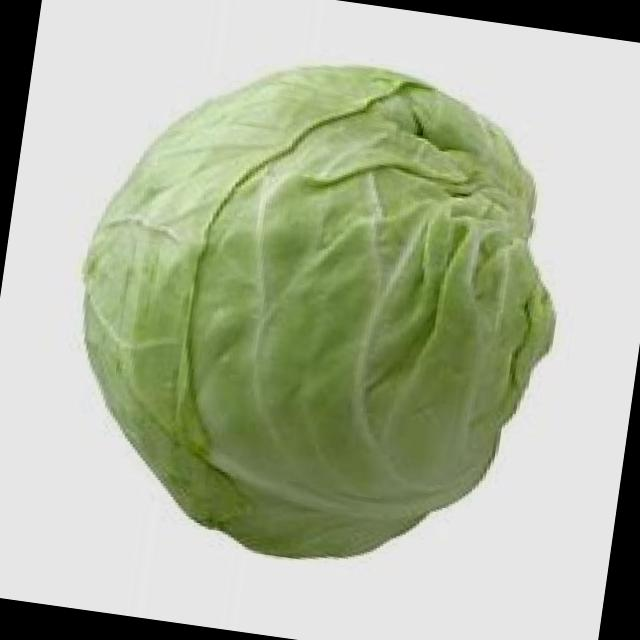cabbage: (84, 60, 559, 560)
